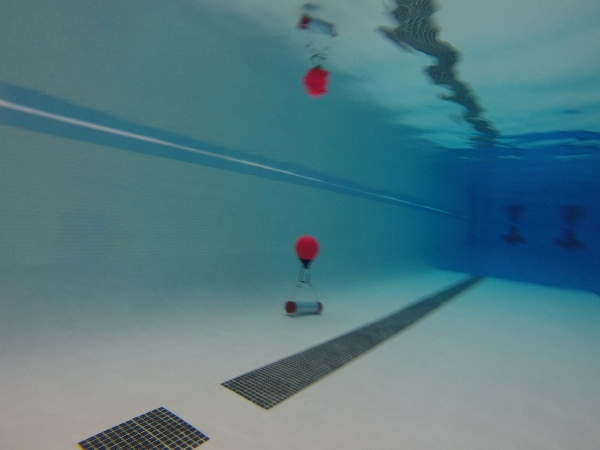buoy_red: (292, 236, 321, 270)
